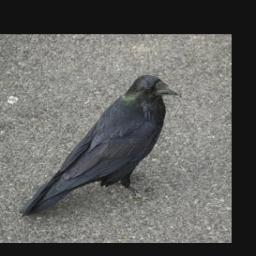Crow: (18, 74, 181, 218)
